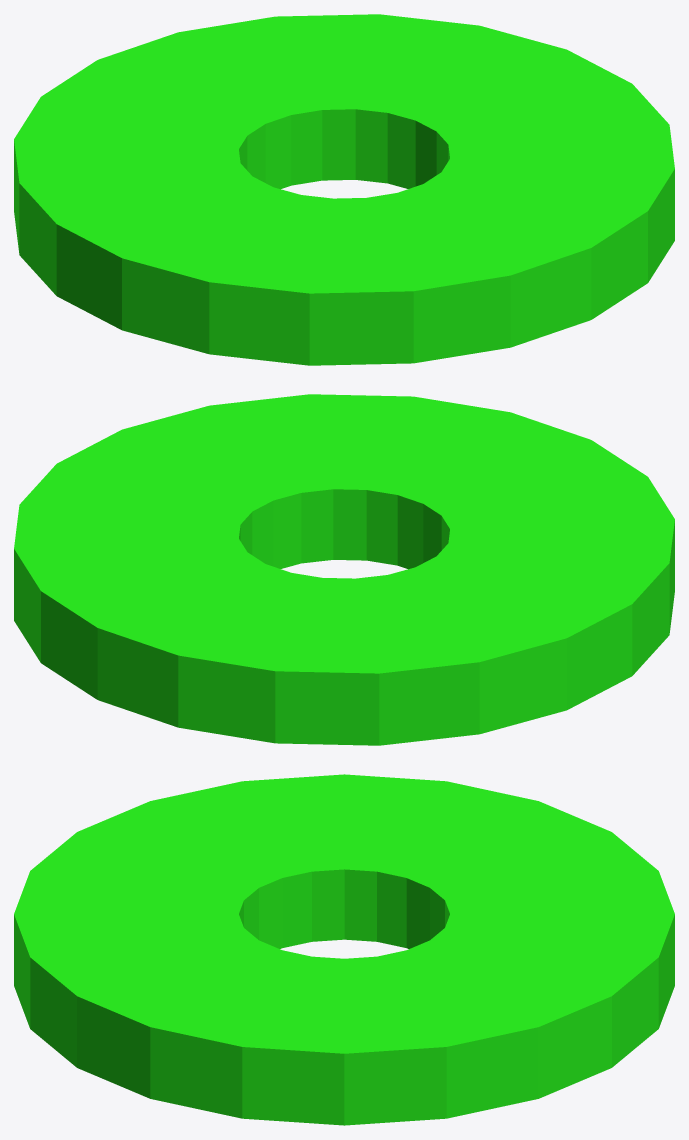
Rendered from green_disk_new.fbx.
3 views of the same model, one above another, from view 1: azimuth 30°, elevation 25°; view 2: azimuth 150°, elevation 25°; view 3: azimuth 270°, elevation 25° (orthographic).
Visible parts, largest first — view 1: Cylinder; view 2: Cylinder; view 3: Cylinder.
Part boxes in pixels (x1,y1,x2,y2): Cylinder: (14, 14, 674, 365); Cylinder: (14, 394, 674, 745); Cylinder: (14, 774, 674, 1125).
Bounding box in the file's own units: 200 × 200 × 23.95.
